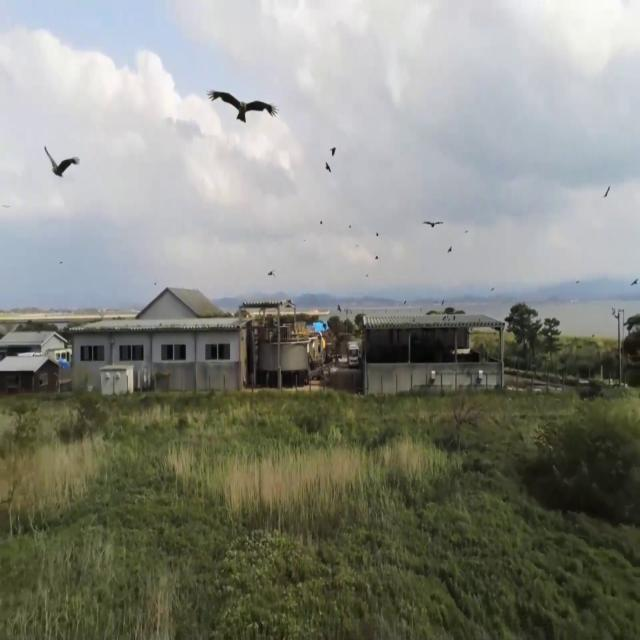bird: (208, 46, 278, 150), (41, 122, 82, 202), (225, 73, 261, 132), (422, 208, 443, 240), (602, 179, 610, 205)
